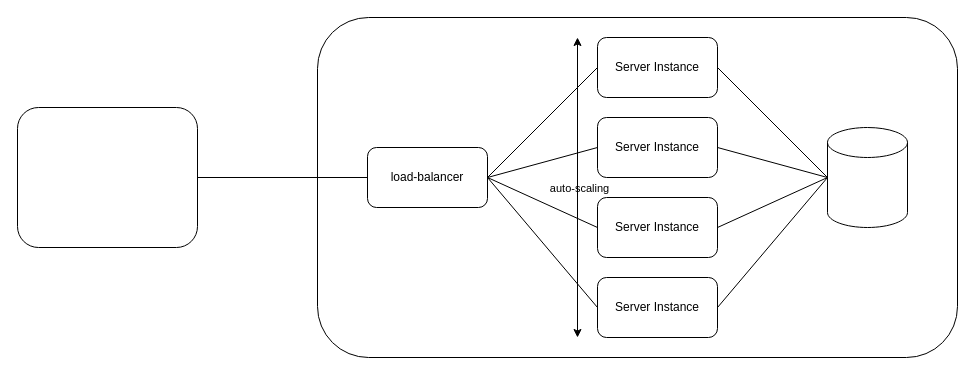
Some shapes in this 975 by 375 pixel diagram are drawn without their labels. The centre of each missing label's shape, as x and y in pixels:
"Client" belongs at pixel 107 177.
"Database" belongs at pixel 867 177.
